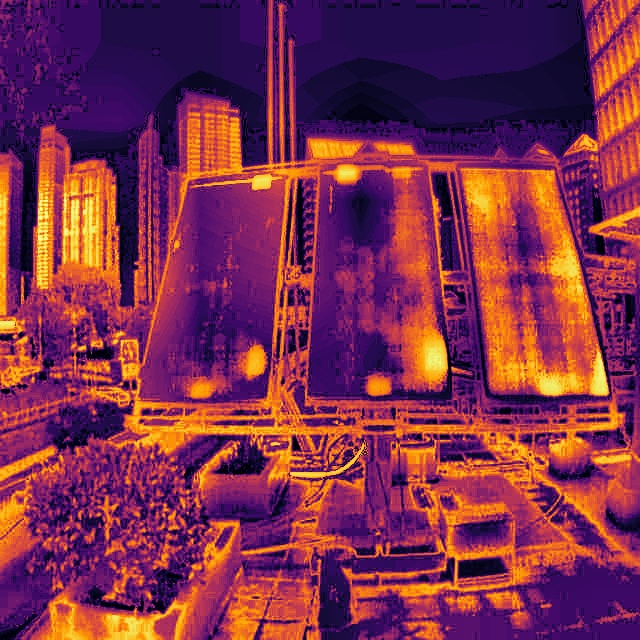Hotspot: (425, 341, 444, 371), (248, 346, 265, 378), (368, 376, 390, 396), (191, 381, 211, 398), (336, 165, 358, 180), (541, 380, 559, 395), (252, 175, 271, 189)
Mild: (248, 346, 265, 378), (368, 376, 390, 396), (191, 381, 211, 398)
Moderate: (425, 341, 447, 371)
Moderate-High: (337, 165, 358, 181), (252, 175, 271, 189)
healthy_panel: (458, 162, 609, 399), (307, 166, 449, 399), (140, 178, 286, 400)
